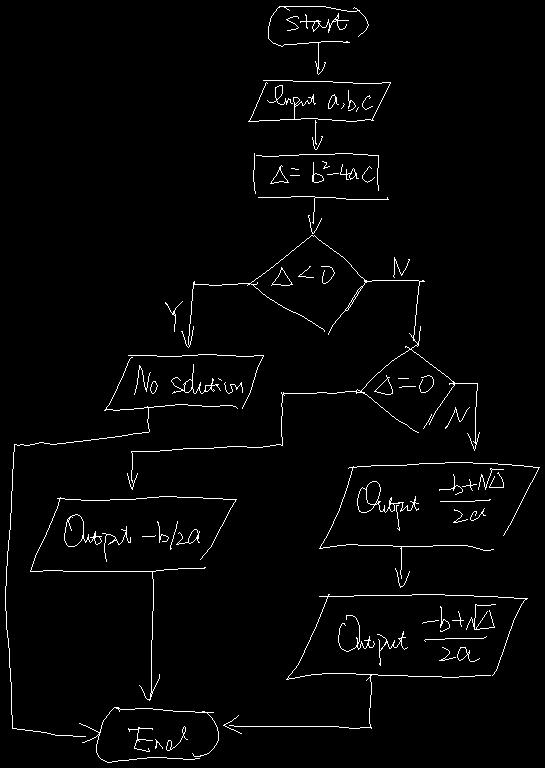arrow: (5, 406, 149, 742), (127, 391, 364, 489), (223, 675, 371, 733), (181, 281, 257, 347), (364, 280, 424, 345), (139, 572, 159, 700), (449, 382, 479, 450), (395, 546, 409, 587), (308, 198, 321, 233), (315, 42, 325, 74), (312, 120, 322, 149)
data: (286, 594, 527, 679), (319, 462, 539, 550), (30, 496, 236, 571), (104, 354, 263, 410), (248, 80, 390, 121)
decision: (247, 235, 367, 334), (356, 345, 455, 432)
process: (253, 153, 388, 199)
terminator: (96, 707, 218, 762), (268, 6, 368, 46)
text: (338, 604, 495, 665), (357, 468, 503, 530), (64, 514, 199, 561), (267, 85, 372, 119), (134, 364, 242, 394), (270, 161, 374, 183), (128, 726, 187, 751), (271, 266, 334, 285), (286, 13, 348, 32), (374, 375, 433, 394), (165, 301, 182, 331), (445, 407, 469, 428), (393, 257, 409, 277)
